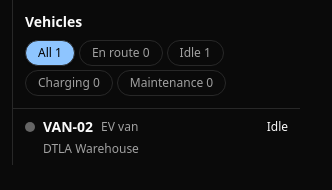
it: VehicleList › says so when a filter matches nothing
Click the button "Charging 0" at (69,83), box [25,70,113,96]
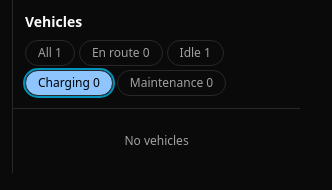
expect the list item "No vehicles" is shown: met, box [124,132,189,149]
